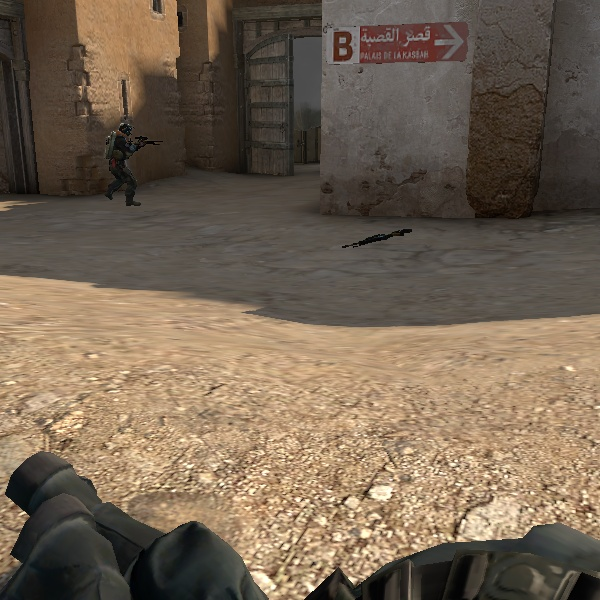ct_body: (99, 122, 149, 208)
ct_head: (115, 119, 138, 141)
